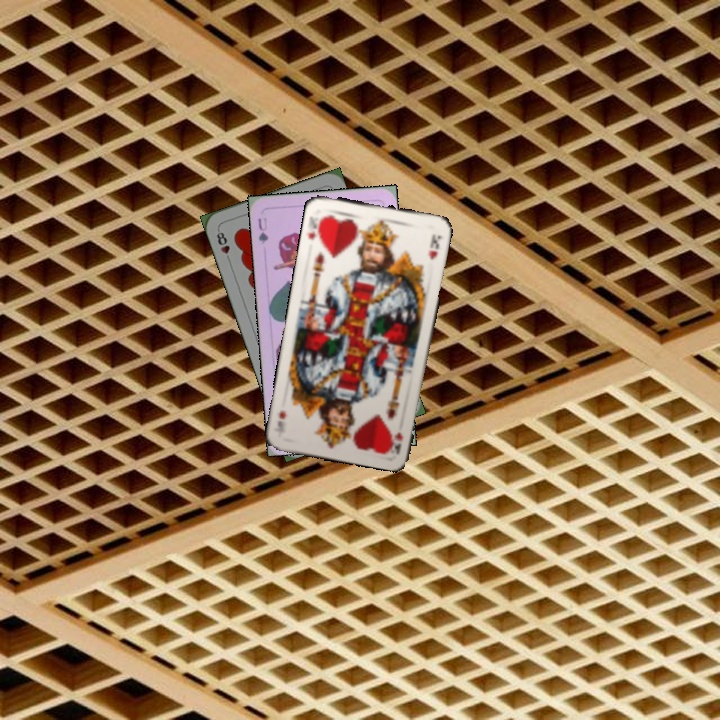GU: (254, 214, 271, 246)
H8: (212, 225, 233, 265)
HK: (304, 212, 327, 242), (390, 428, 405, 455)
